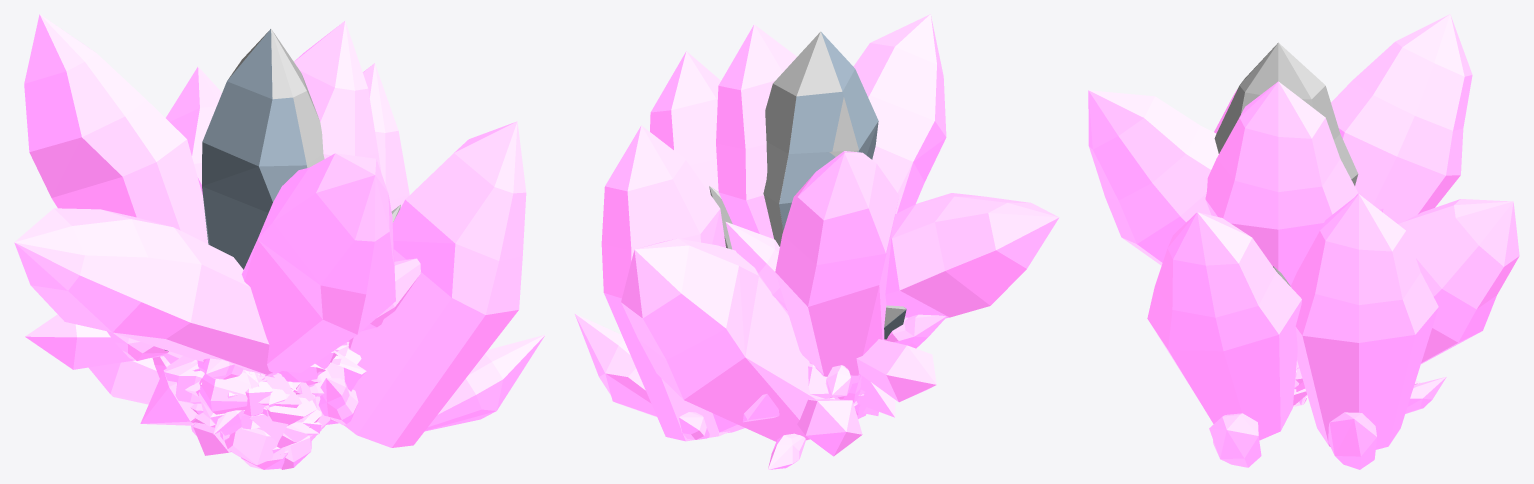
The model's file is ore.glb.
The picture shows the model from 3 angles, left to right: view 1: azimuth 30°, elevation 25°; view 2: azimuth 150°, elevation 25°; view 3: azimuth 270°, elevation 25°; orthographic projection. The views are drawn at different scales.
Visible parts, largest first — view 1: Circle.008, Circle.005, Circle.006, Circle.004, Circle.002, Cube, Circle.001, Circle.007, Circle.003, Circle.009; view 2: Circle.007, Circle.006, Circle.009, Circle.005, Circle.004, Circle.001, Circle.003, Circle.002, Circle.008, Cube; view 3: Circle.009, Circle.008, Circle.006, Circle.001, Circle.004, Circle.007, Circle.003.
Part boxes in pixels (left/top/right/bottom): Circle.008: left=318, top=121, right=545, bottom=447; Circle.005: left=14, top=208, right=272, bottom=434; Circle.006: left=24, top=14, right=208, bottom=369; Circle.004: left=203, top=153, right=420, bottom=379; Circle.002: left=165, top=29, right=307, bottom=350; Cube: left=164, top=341, right=366, bottom=469; Circle.001: left=294, top=21, right=380, bottom=341; Circle.007: left=89, top=66, right=221, bottom=404; Circle.003: left=227, top=29, right=400, bottom=222; Circle.009: left=363, top=63, right=409, bottom=210; Circle.007: left=621, top=238, right=862, bottom=469; Circle.006: left=725, top=151, right=946, bottom=402; Circle.009: left=575, top=125, right=779, bottom=441; Circle.005: left=856, top=193, right=1059, bottom=417; Circle.004: left=853, top=14, right=946, bottom=213; Circle.001: left=716, top=24, right=796, bottom=238; Circle.003: left=709, top=31, right=906, bottom=326; Circle.002: left=779, top=32, right=906, bottom=339; Circle.008: left=650, top=51, right=720, bottom=194; Cube: left=808, top=361, right=878, bottom=418; Circle.009: left=1290, top=194, right=1446, bottom=469; Circle.008: left=1147, top=212, right=1305, bottom=467; Circle.006: left=1331, top=14, right=1472, bottom=223; Circle.001: left=1205, top=81, right=1357, bottom=285; Circle.004: left=1088, top=90, right=1218, bottom=265; Circle.007: left=1398, top=199, right=1519, bottom=384; Circle.003: left=1214, top=42, right=1358, bottom=286.
Size of the model in its own units: 5.81 by 4.76 by 5.12.
